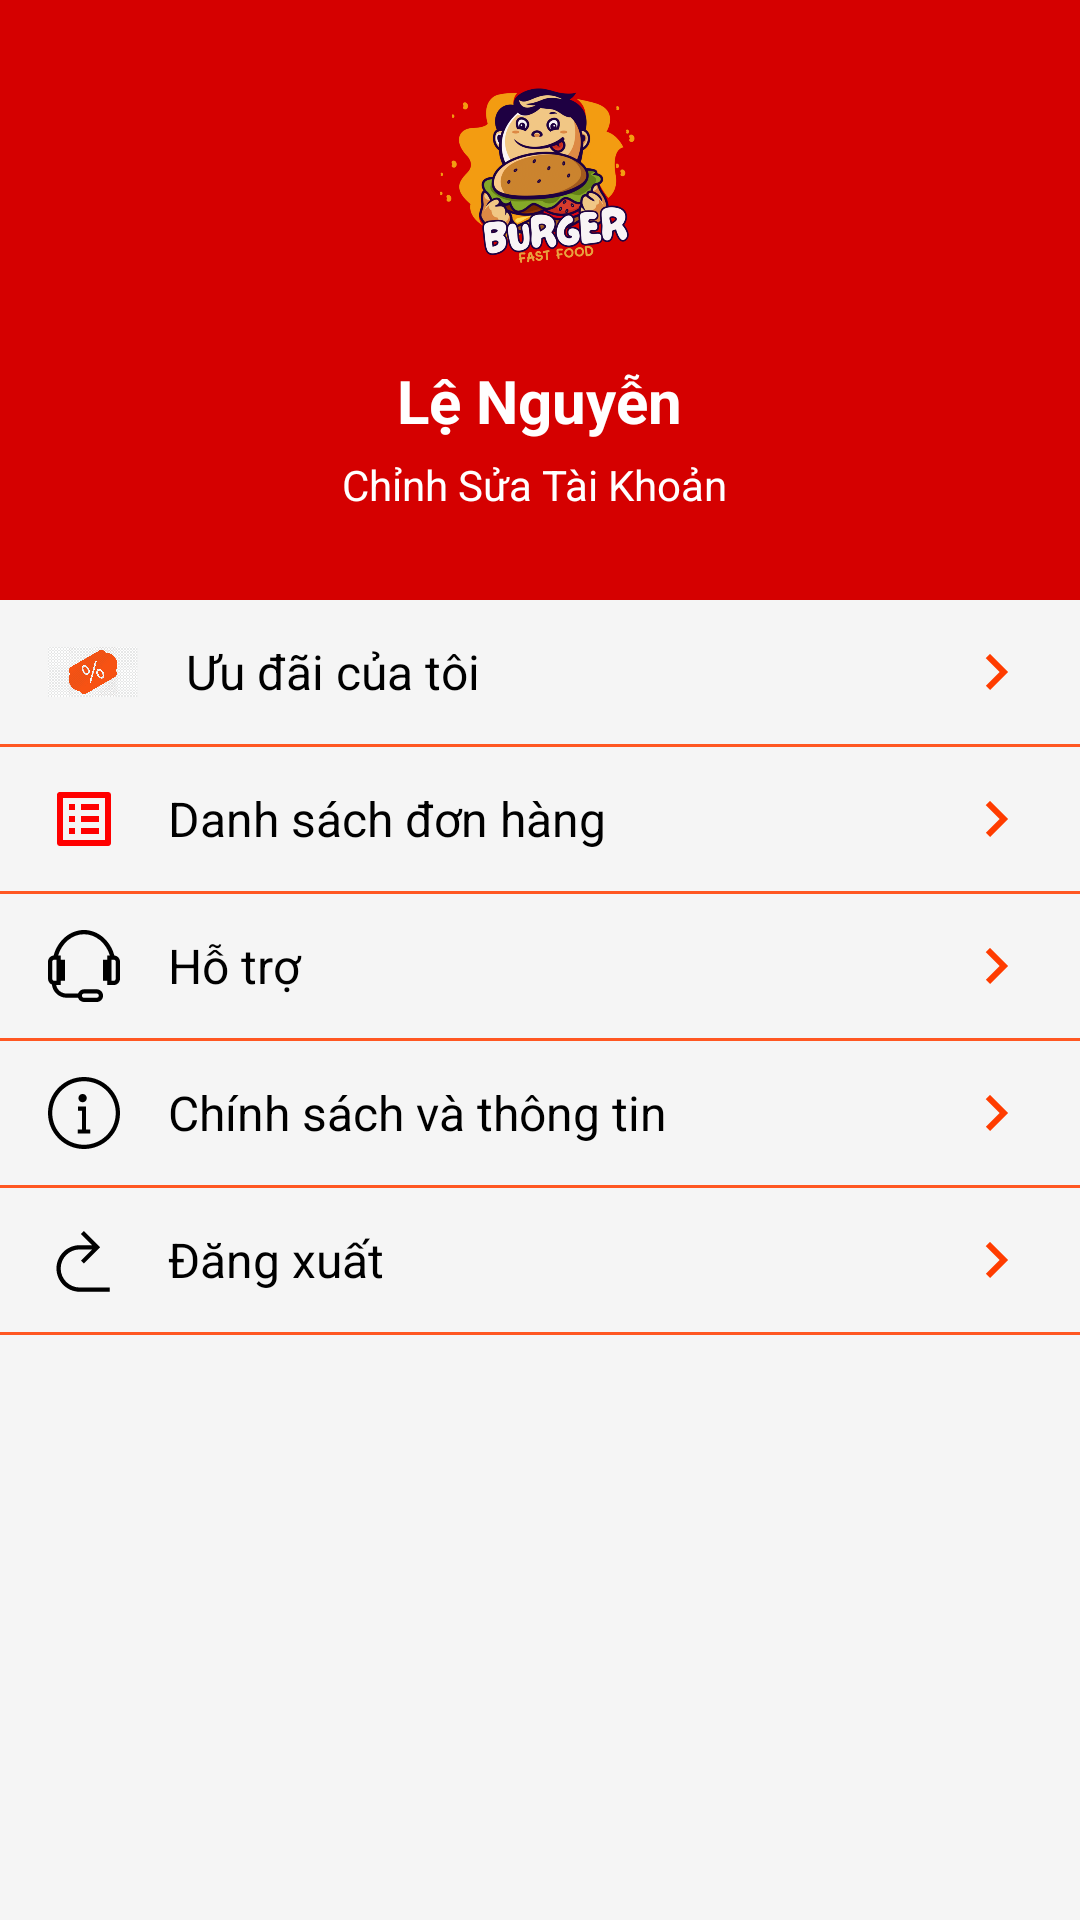

Icon click points for this 1080px x 1920px phone screenshot, format (x=x, y=y):
Mũi tên: (x=997, y=672), (x=997, y=819), (x=997, y=966), (x=997, y=1113), (x=997, y=1260)
